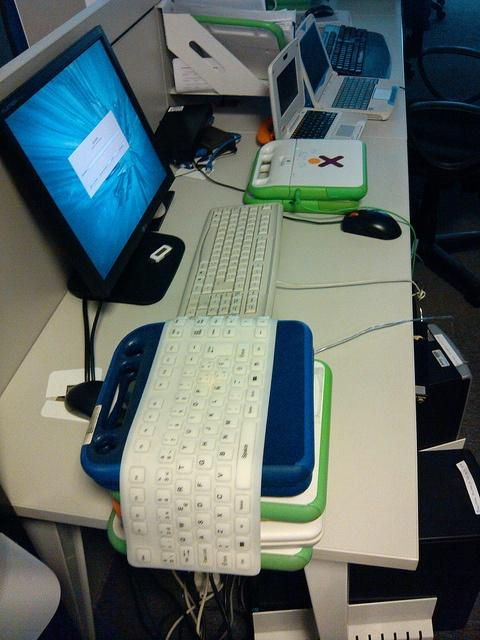AIO PC-Monitor-TV: (0, 23, 186, 305)
Meja: (0, 122, 419, 638)
